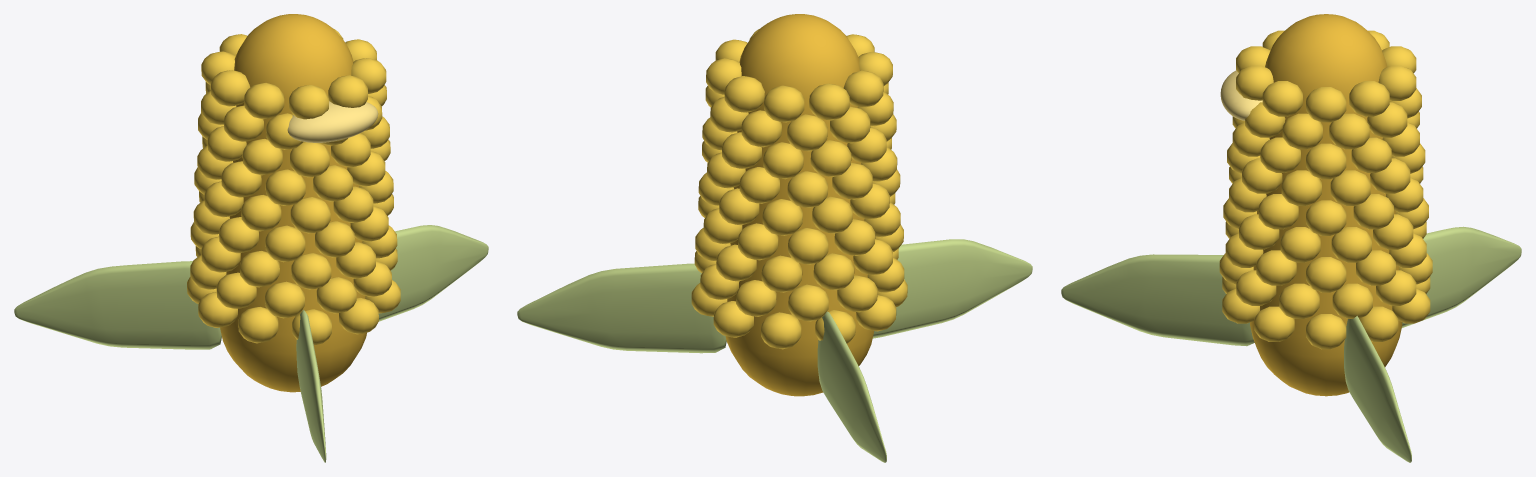
File: comida_mazorca.glb
3 views of the same model, side by side, from view 1: azimuth 30°, elevation 25°; view 2: azimuth 150°, elevation 25°; view 3: azimuth 270°, elevation 25° (orthographic).
Visible parts, largest first — view 1: tusa.001, amero 1.001, amero 0.001, mantequilla mazorca.001, amero 2.001, grano 3 6.001, grano 8 6.001, grano 2 7.001, grano 5 6.001, grano 1 6.001, grano 4 7.001, grano 0 6.001 (+38 smaller); view 2: tusa.001, amero 0.001, amero 2.001, amero 1.001, grano 1 3.001, grano 0 3.001, grano 8 4.001, grano 8 3.001, grano 2 3.001, grano 3 3.001, grano 5 3.001, grano 7 3.001 (+38 smaller); view 3: tusa.001, amero 2.001, amero 1.001, amero 0.001, grano 6 0.001, grano 2 0.001, grano 8 0.001, grano 8 9.001, grano 0 0.001, grano 4 0.001, grano 1 9.001, grano 8 1.001 (+38 smaller).
Boxes of the visible parts, x1,y1,x2,y2 form: tusa.001: (220,14,366,392); amero 1.001: (14,261,221,349); amero 0.001: (378,225,488,321); mantequilla mazorca.001: (287,101,378,142); amero 2.001: (296,309,326,462); grano 3 6.001: (265,225,305,262); grano 8 6.001: (244,83,284,119); grano 2 7.001: (291,253,331,289); grano 5 6.001: (265,169,305,205); grano 1 6.001: (265,281,304,318); grano 4 7.001: (290,197,330,233); grano 0 6.001: (238,307,278,343); tusa.001: (725,14,873,396); amero 0.001: (517,263,726,353); amero 2.001: (872,239,1032,338); amero 1.001: (817,311,886,462); grano 1 3.001: (788,284,828,321); grano 0 3.001: (761,312,801,349); grano 8 4.001: (809,83,849,120); grano 8 3.001: (764,85,804,122); grano 2 3.001: (761,255,802,292); grano 3 3.001: (788,228,828,264); grano 5 3.001: (787,171,827,207); grano 7 3.001: (787,114,827,151); tusa.001: (1250,14,1402,396); amero 2.001: (1061,254,1254,346); amero 1.001: (1402,226,1521,327); amero 0.001: (1344,316,1411,462); grano 6 0.001: (1306,143,1346,179); grano 2 0.001: (1306,257,1346,292); grano 8 0.001: (1306,87,1346,122); grano 8 9.001: (1262,81,1302,116); grano 0 0.001: (1306,314,1346,349); grano 4 0.001: (1306,200,1346,235); grano 1 9.001: (1279,283,1319,318); grano 8 1.001: (1349,81,1389,116).
Bounding box in the file's own units: 0.3219 × 0.2685 × 0.3027.
